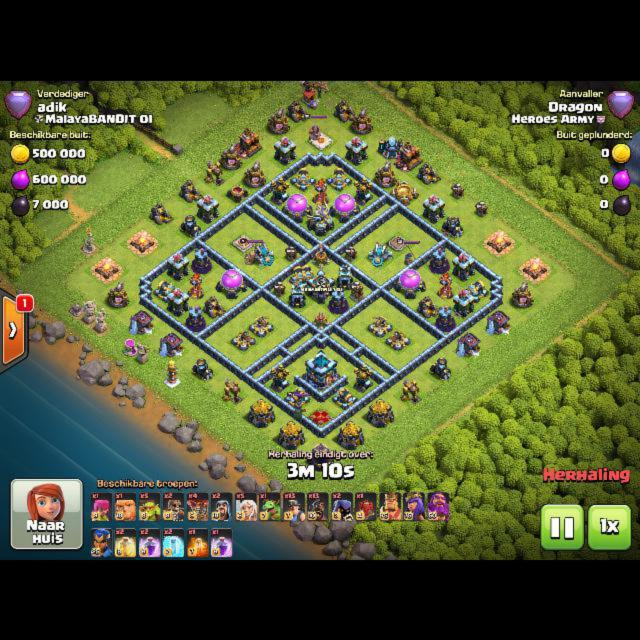AD: (269, 364, 289, 393), (353, 176, 373, 205), (270, 176, 290, 205), (354, 363, 373, 392)
AirSweeper: (311, 243, 330, 268), (312, 311, 330, 332)
BombTower: (289, 281, 306, 308), (337, 263, 353, 289)
Canon: (290, 265, 317, 288), (290, 167, 316, 190), (325, 167, 351, 190), (463, 279, 489, 302), (284, 386, 310, 408), (331, 386, 357, 408), (153, 279, 177, 302)
ClanCastle: (307, 268, 336, 302)
Eagle: (306, 201, 334, 236)
Inferno: (312, 178, 328, 204), (437, 272, 453, 298), (187, 272, 203, 298)
KingPad: (233, 234, 255, 251)
Mortar: (429, 357, 451, 380), (191, 358, 213, 381), (179, 214, 201, 237), (441, 215, 463, 237)
QueenPad: (309, 407, 333, 425)
RcPad: (389, 235, 408, 249)
Scattershot: (368, 241, 392, 266), (250, 241, 273, 266)
TH13: (305, 349, 338, 390)
WardenPad: (311, 132, 332, 147)
WizzTower: (186, 305, 205, 331), (436, 305, 455, 331), (430, 247, 449, 273), (192, 247, 211, 273), (329, 287, 348, 313)
Xbow: (248, 314, 274, 336), (367, 314, 393, 336), (385, 329, 411, 351), (230, 329, 256, 351)
